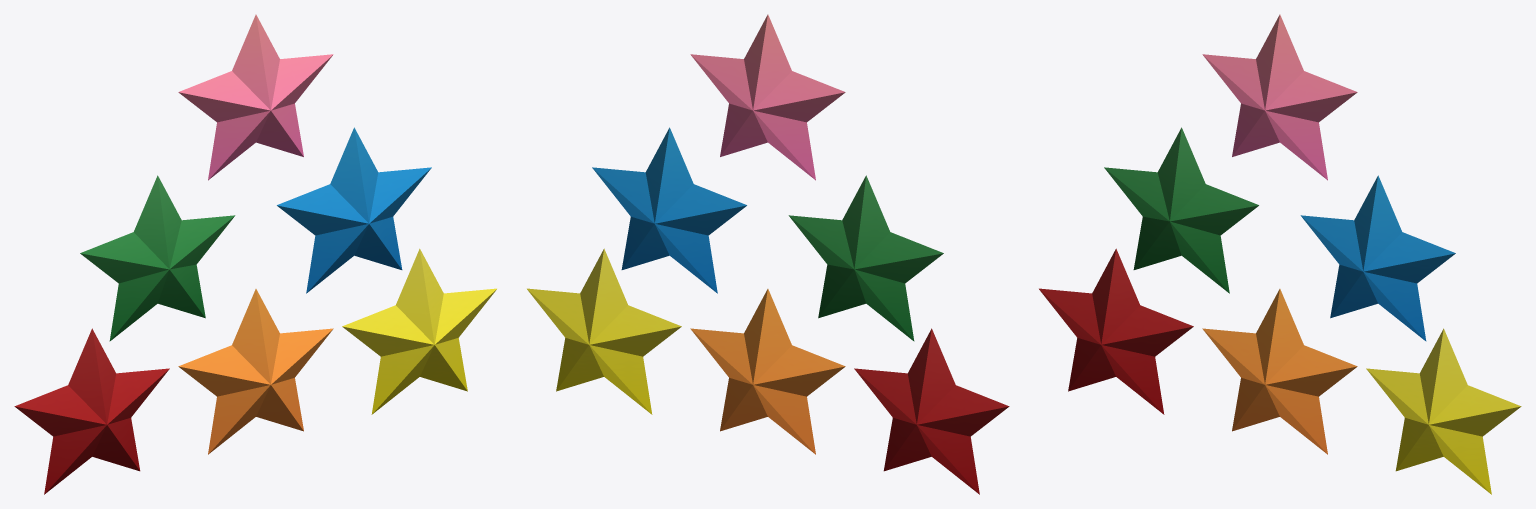
The model's file is Stars.glb.
The picture shows the model from 3 angles, left to right: view 1: azimuth 30°, elevation 25°; view 2: azimuth 150°, elevation 25°; view 3: azimuth 330°, elevation 25°; orthographic projection.
Parts seen in each view (by area): view 1: Star.001, Star.003, Star.004, Star, Star.005, Star.002; view 2: Star.001, Star.003, Star.004, Star, Star.005, Star.002; view 3: Star.002, Star.003, Star.004, Star, Star.005, Star.001.
Part boxes in pixels (x1,y1,x2,y2): Star.001: (14, 328, 169, 494); Star.003: (277, 127, 431, 293); Star.004: (80, 175, 235, 341); Star: (178, 289, 333, 454); Star.005: (178, 14, 333, 180); Star.002: (342, 248, 496, 414); Star.001: (854, 328, 1009, 494); Star.003: (592, 127, 746, 293); Star.004: (788, 175, 943, 341); Star: (690, 289, 845, 454); Star.005: (690, 14, 845, 180); Star.002: (527, 248, 681, 414); Star.002: (1366, 328, 1521, 494); Star.003: (1300, 175, 1455, 341); Star.004: (1104, 127, 1258, 293); Star: (1202, 289, 1357, 454); Star.005: (1202, 14, 1357, 180); Star.001: (1039, 248, 1193, 414).
Size of the model in its own units: 1.48 by 1.25 by 0.1579.
Materials: 1 (1 with a texture image).
